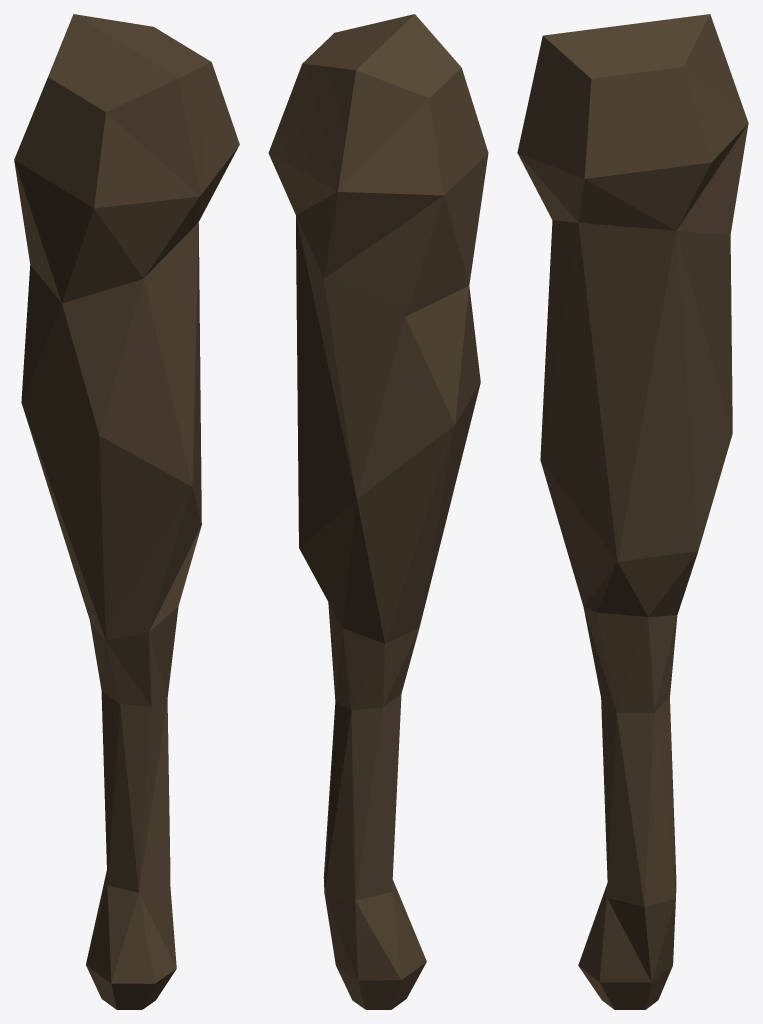
The model's file is Mazo.glb.
3 renders of one model, left to right at view 1: azimuth 30°, elevation 25°; view 2: azimuth 150°, elevation 25°; view 3: azimuth 270°, elevation 25°, orthographic.
Parts seen in each view (by area): view 1: SM_Wep_Club_01; view 2: SM_Wep_Club_01; view 3: SM_Wep_Club_01.
Part boxes in pixels (<box>): SM_Wep_Club_01: <box>14,14,239,1009</box>; SM_Wep_Club_01: <box>268,14,488,1009</box>; SM_Wep_Club_01: <box>517,14,748,1009</box>.
Bounding box in the file's own units: 0.1824 × 0.9293 × 0.1991.
Materials: 1 (1 with a texture image).
